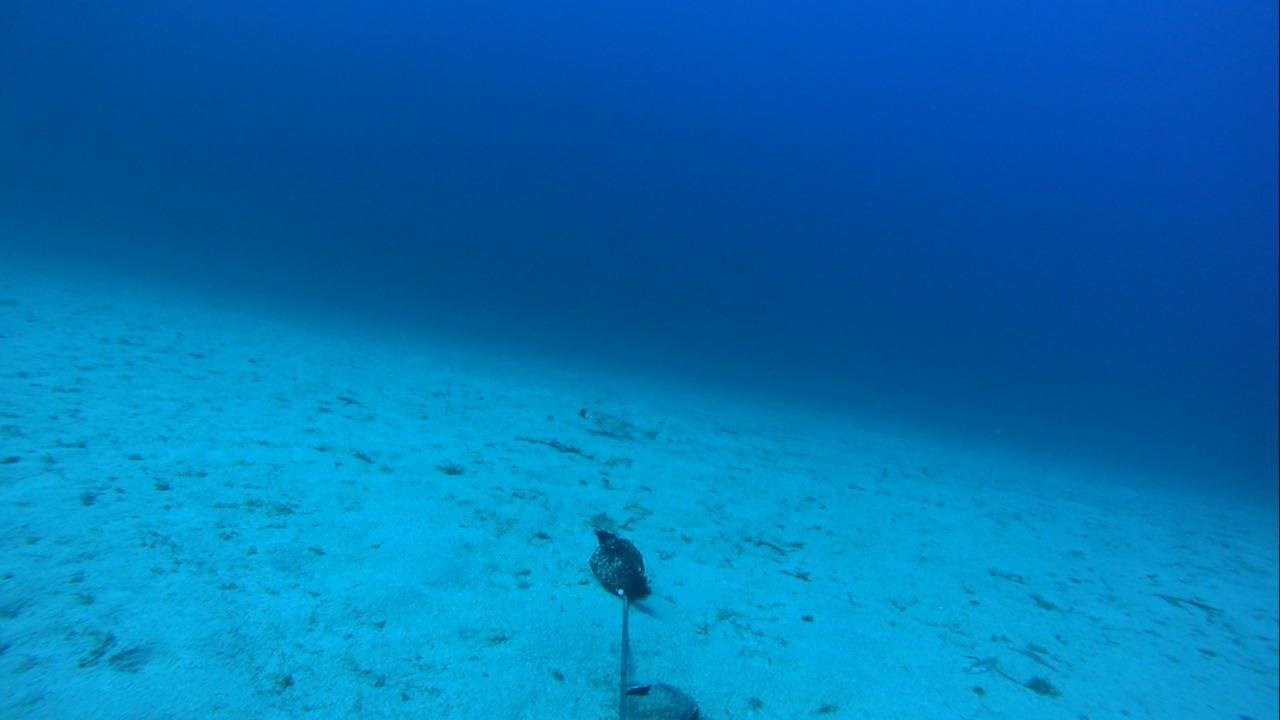dactylopterus: (567, 402, 658, 451)
